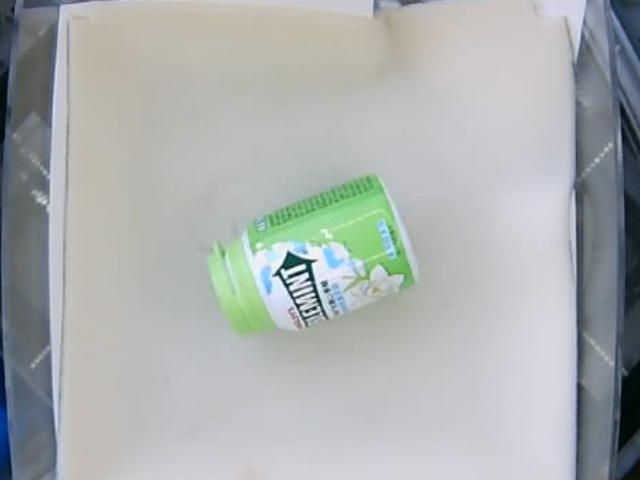Bottle: (210, 173, 418, 334)
